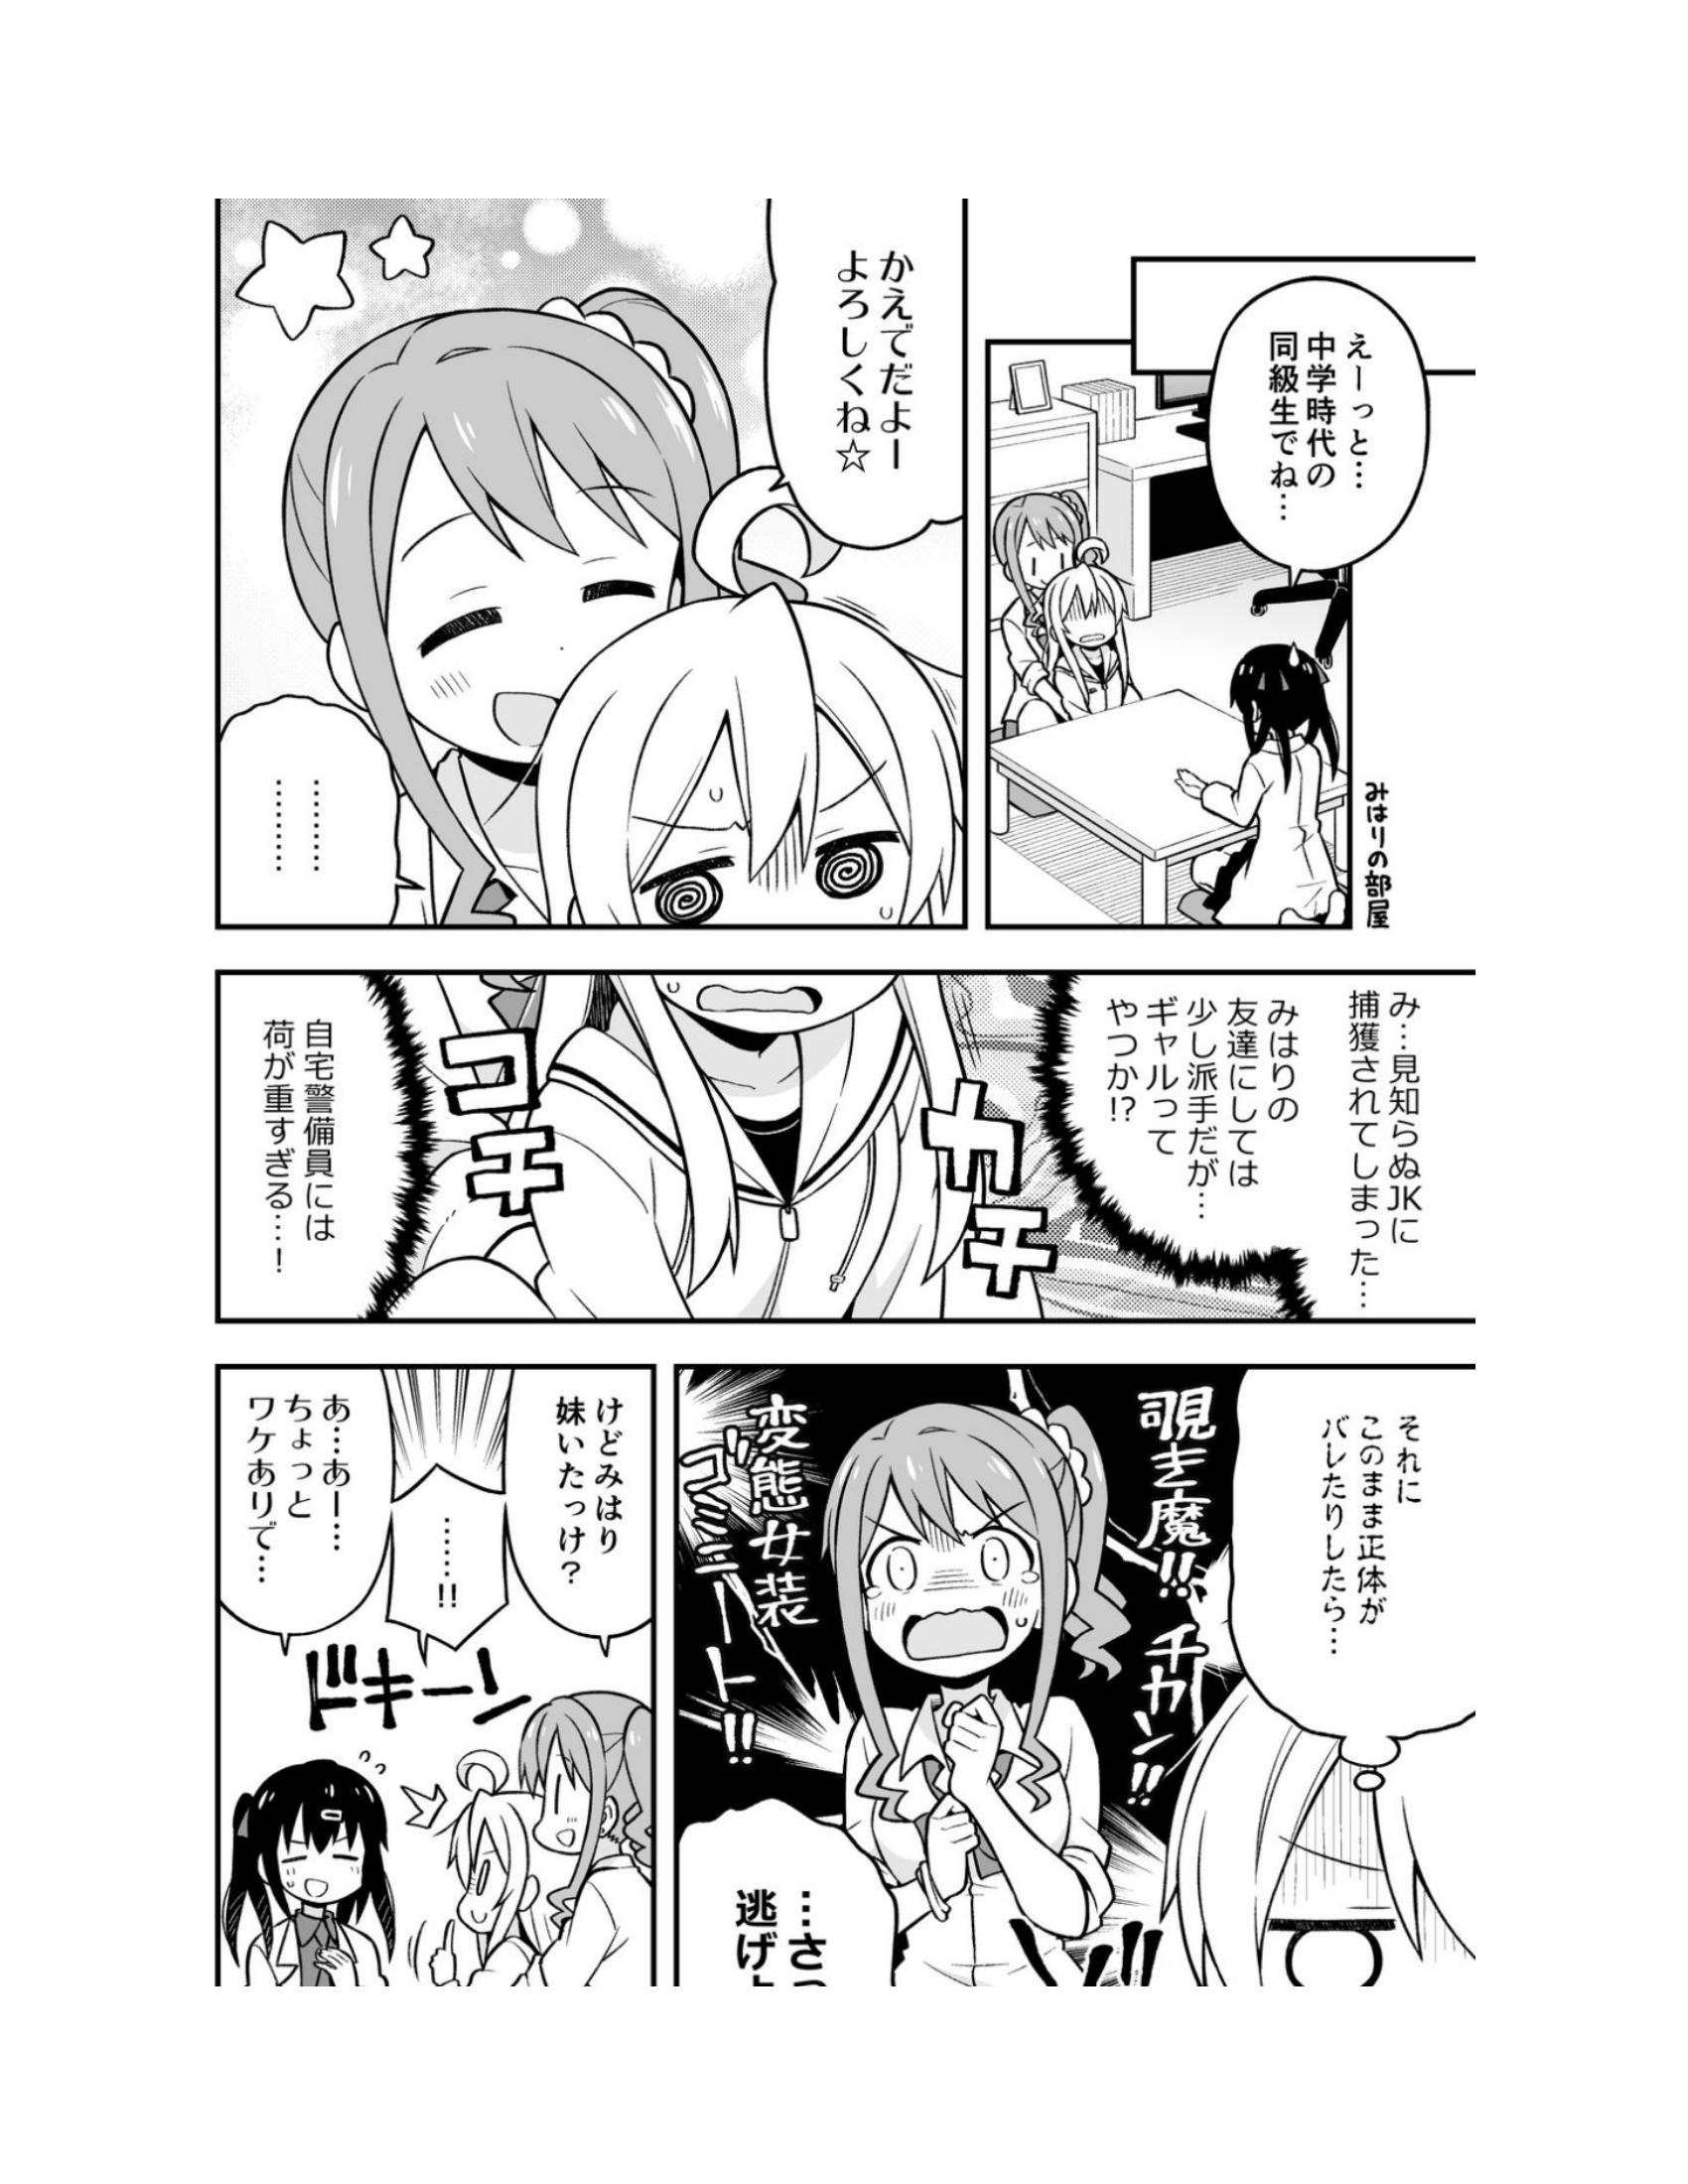a: (1025, 955, 1470, 1312), (739, 145, 998, 562), (200, 955, 456, 1337), (1254, 1404, 1504, 1757), (1193, 269, 1429, 596), (493, 1363, 684, 1645), (665, 1790, 901, 2005), (215, 1376, 410, 1629)
